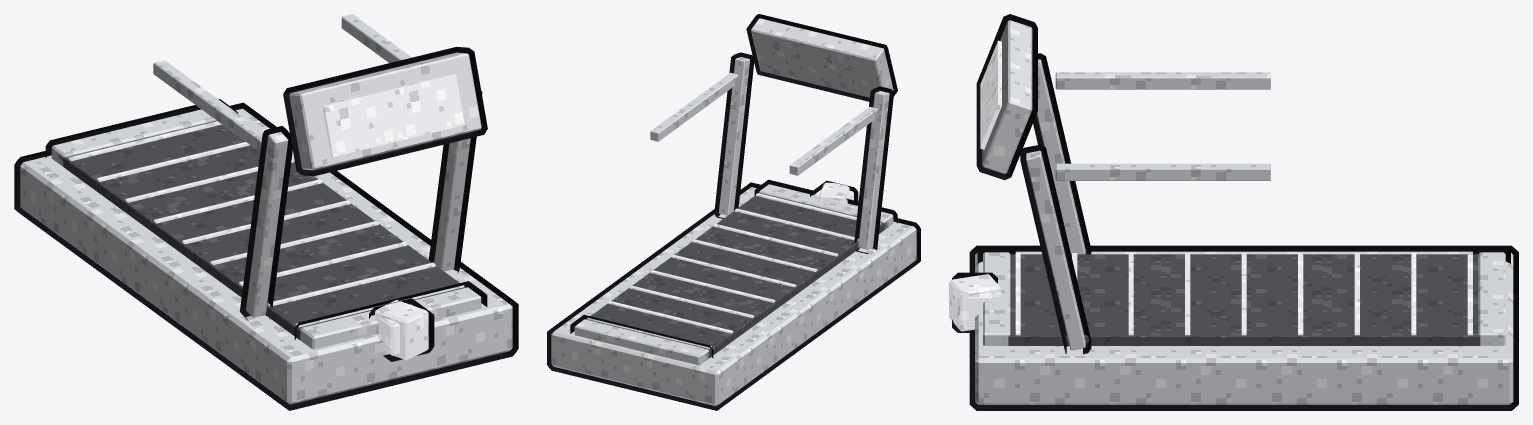
Rendered from treadmill_03.glb.
3 views of the same model, side by side, from view 1: azimuth 30°, elevation 25°; view 2: azimuth 150°, elevation 25°; view 3: azimuth 270°, elevation 25° (orthographic). The views are drawn at different scales.
Parts seen in each view (by area): view 1: model; view 2: model; view 3: model.
Part boxes in pixels (left/top/right/bottom): model: left=14, top=14, right=518, bottom=410; model: left=547, top=14, right=920, bottom=410; model: left=949, top=14, right=1518, bottom=410.
Bounding box in the file's own units: 1.25 × 1.54 × 2.63.
Materials: 4 (3 with a texture image).
